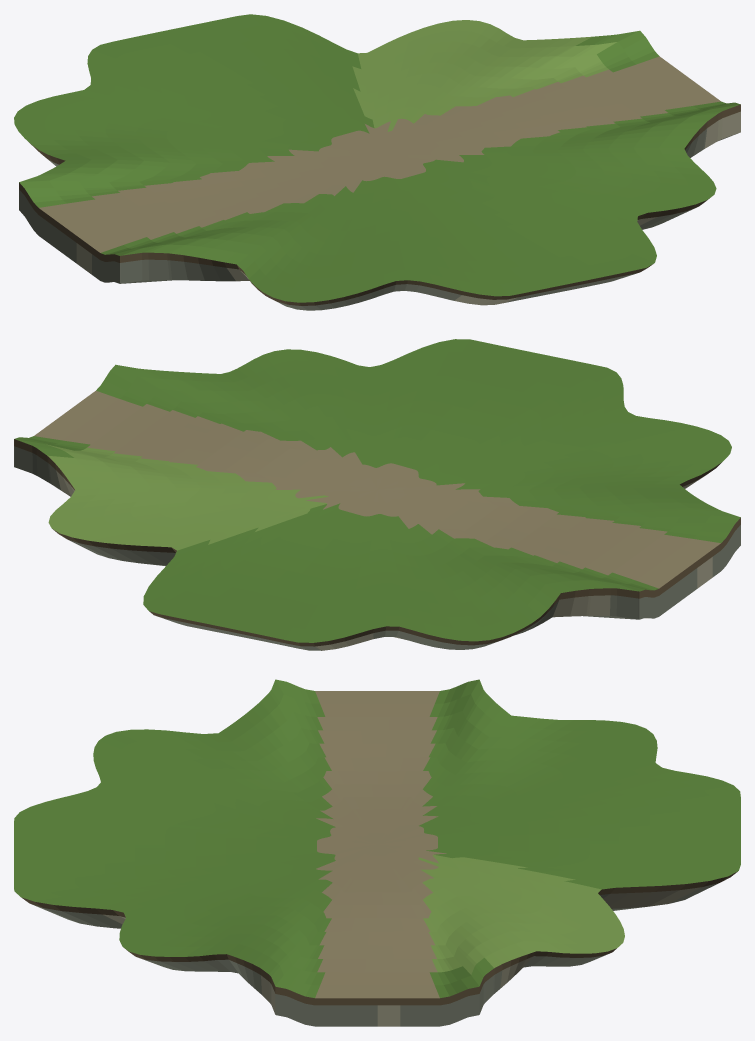
Rendered from blossom_terrace_structure.fbx.
The picture shows the model from 3 angles, top to bottom: view 1: azimuth 30°, elevation 25°; view 2: azimuth 150°, elevation 25°; view 3: azimuth 270°, elevation 25°; orthographic projection.
Parts seen in each view (by area): view 1: chunk_blossom_terrace; view 2: chunk_blossom_terrace; view 3: chunk_blossom_terrace.
Boxes of the visible parts, <box> form: chunk_blossom_terrace: <box>14,14,740,310</box>; chunk_blossom_terrace: <box>14,339,740,650</box>; chunk_blossom_terrace: <box>14,679,740,1026</box>.
Bounding box in the file's own units: 256 × 47.5 × 256.
